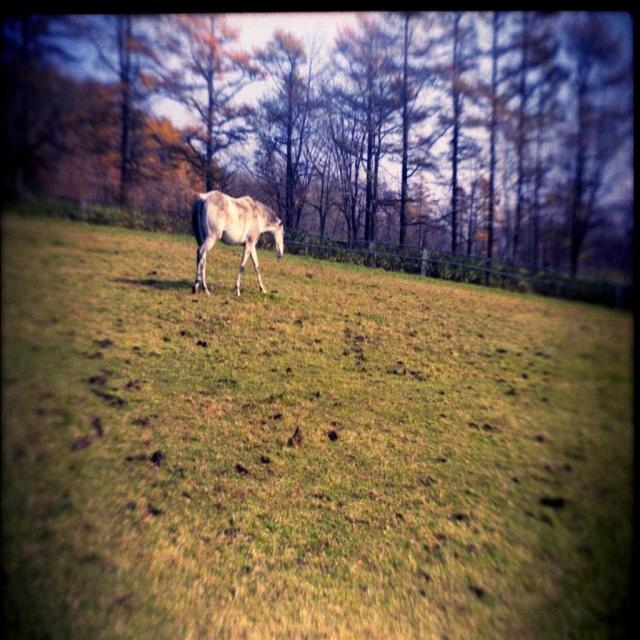Horse: (188, 188, 284, 292)
